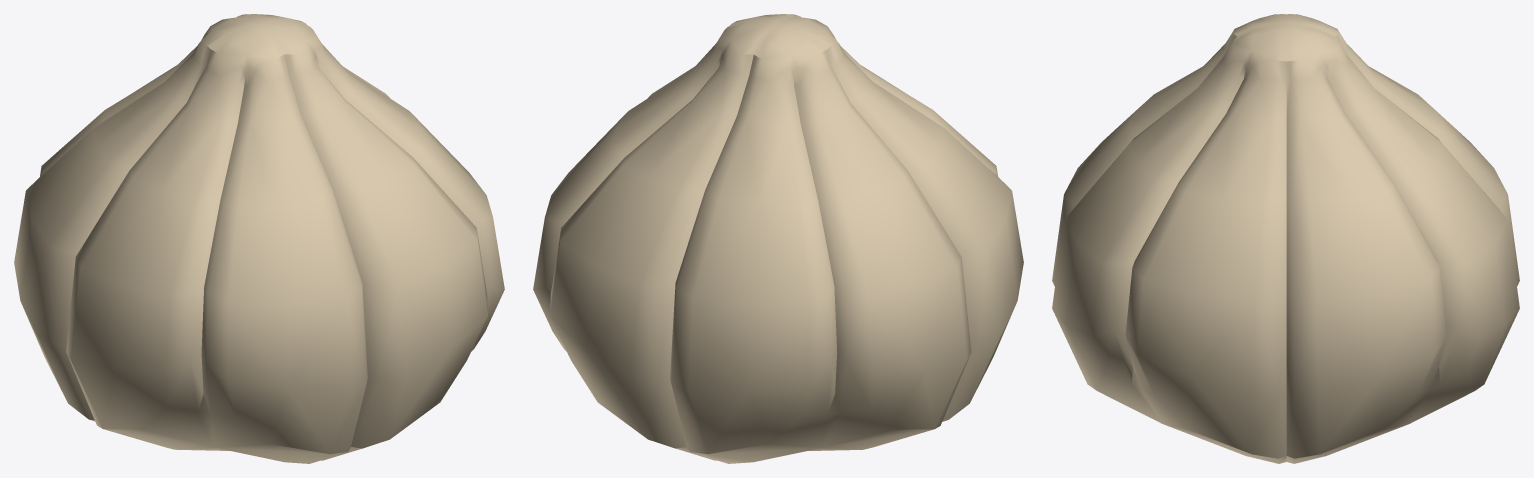
The model's file is chukaman.glb.
The picture shows the model from 3 angles, left to right: view 1: azimuth 30°, elevation 25°; view 2: azimuth 150°, elevation 25°; view 3: azimuth 270°, elevation 25°; orthographic projection.
Parts seen in each view (by area): view 1: Food_Chukaman; view 2: Food_Chukaman; view 3: Food_Chukaman.
Part boxes in pixels (x1,y1,x2,y2): Food_Chukaman: [14, 14, 504, 463]; Food_Chukaman: [533, 14, 1023, 463]; Food_Chukaman: [1052, 14, 1519, 463].
Bounding box in the file's own units: 0.2686 × 0.2621 × 0.2686.
Materials: 1 (1 with a texture image).
